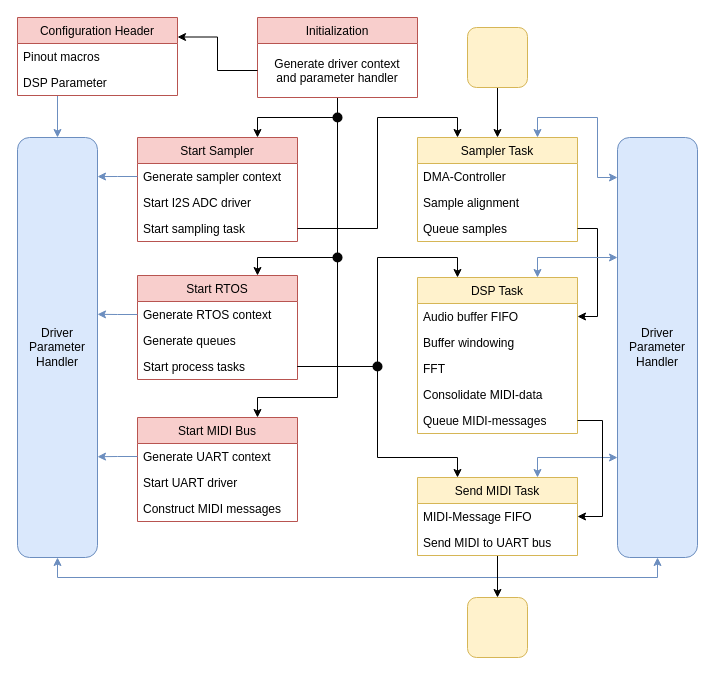
Image size: 715x675. Some labels were removed from this diagram. The centre of each missing label's shape, as x and y in pixels:
"INPUT" goes at pixel 497 57.
"OUTPUT" goes at pixel 497 627.
